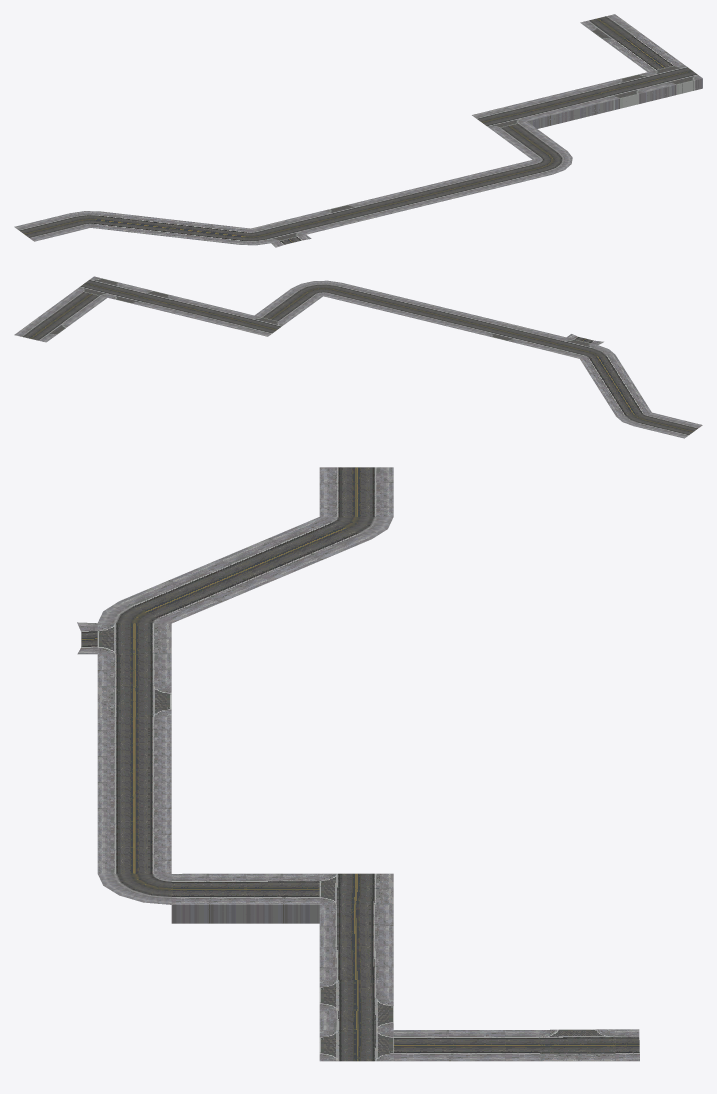
Rendered from lodasnedge04.obj.
3 renders of one model, top to bottom at view 1: azimuth 30°, elevation 25°; view 2: azimuth 150°, elevation 25°; view 3: azimuth 270°, elevation 25°, orthographic. The views are drawn at different scales.
Visible parts, largest first — view 1: lodasNedge04; view 2: lodasNedge04; view 3: lodasNedge04.
Part boxes in pixels (x1=…): lodasNedge04: x1=14, y1=14, x2=702, y2=247; lodasNedge04: x1=14, y1=276, x2=702, y2=438; lodasNedge04: x1=77, y1=467, x2=639, y2=1061.
Bounding box in the file's own units: 380 × 5.69 × 152.
Materials: 2 (2 with a texture image).
